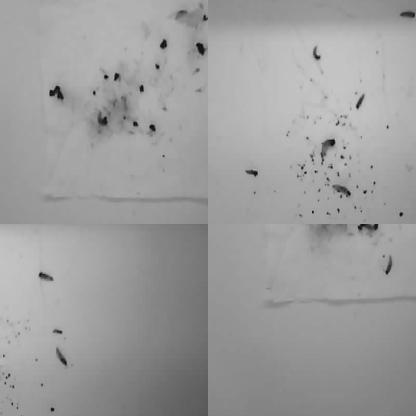PtecticusTenebrifer: (319, 138, 335, 160), (55, 344, 68, 368), (382, 253, 395, 277), (333, 183, 352, 197), (354, 92, 366, 110), (38, 270, 53, 283), (400, 9, 416, 20), (311, 46, 321, 62), (0, 370, 9, 385), (360, 224, 378, 231), (138, 0, 153, 8), (0, 286, 12, 296), (52, 326, 64, 336), (253, 224, 262, 236), (246, 169, 259, 177), (0, 362, 6, 379), (0, 347, 4, 372), (0, 34, 8, 46), (190, 0, 208, 4), (300, 0, 318, 4), (0, 297, 10, 304), (0, 255, 4, 272), (0, 272, 3, 291), (208, 0, 216, 5), (0, 224, 9, 228), (208, 224, 211, 234)
